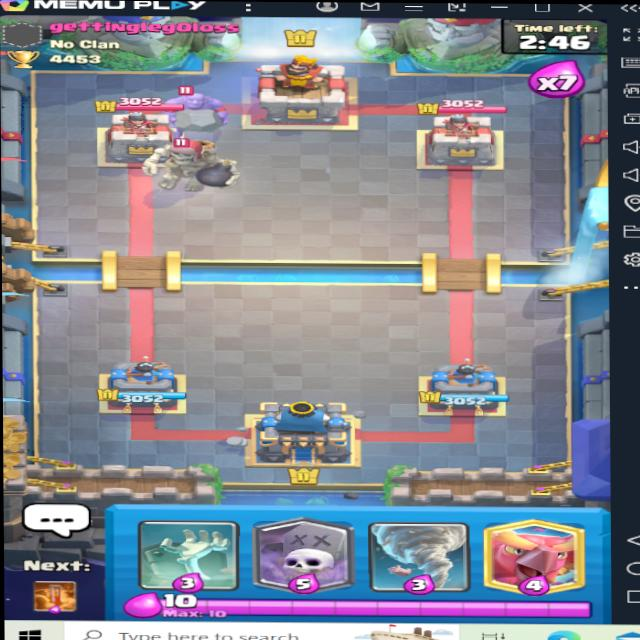Bowler: (164, 89, 239, 133)
Giantskeleton: (144, 130, 236, 195)
